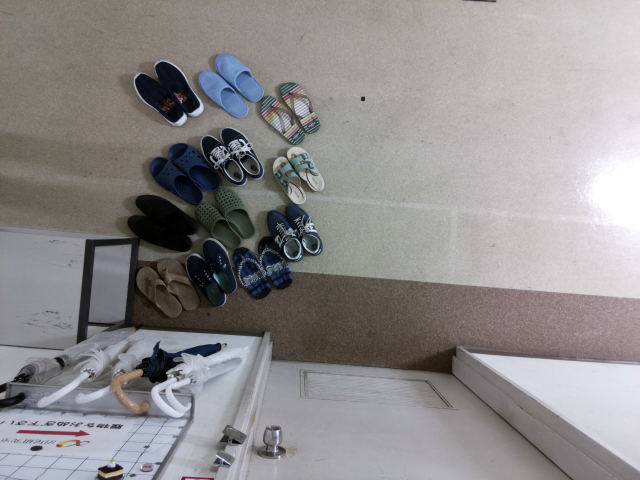Copy of Copy of Copy of Copy of Copy of Copy of Copy of Copy of Copy of Copy of: (128, 208, 195, 258), (133, 187, 199, 237), (129, 262, 184, 321), (227, 243, 272, 303), (183, 252, 228, 311), (155, 255, 199, 314), (200, 236, 239, 300), (193, 200, 240, 251), (254, 235, 296, 292), (285, 203, 327, 260), (212, 185, 255, 240), (263, 208, 304, 265), (284, 143, 328, 193), (268, 156, 307, 210)
Copy of Copy of Copy of Copy of Copy of Copy of Copy of Copy of Copy of shoe: (152, 154, 200, 214)
Copy of Copy of Copy of Copy of Copy of Copy of Copy of Copy of shoe: (171, 138, 220, 198)
Copy of Copy of Copy of Copy of Copy of Copy of Copy of shoe: (199, 130, 248, 190)
Copy of Copy of Copy of Copy of Copy of Copy of shoe: (219, 125, 268, 185)
Copy of Copy of Copy of Copy of Copy of shoe: (132, 67, 187, 130)
Copy of Copy of Copy of Copy of shoe: (151, 58, 205, 121)
Copy of Copy of Copy of Copy of umbrella: (1, 335, 74, 412)
Copy of Copy of Copy of shoe: (197, 66, 250, 119)
Copy of Copy of Copy of umbrella: (33, 337, 108, 414)
Copy of Copy of shoe: (212, 53, 264, 103)
Copy of Copy of umbrella: (71, 327, 141, 414)
Copy of shoe: (260, 91, 307, 149)
Copy of umbrella: (114, 338, 226, 417)
shoe: (276, 79, 324, 136)
umbrella: (152, 342, 241, 421)
